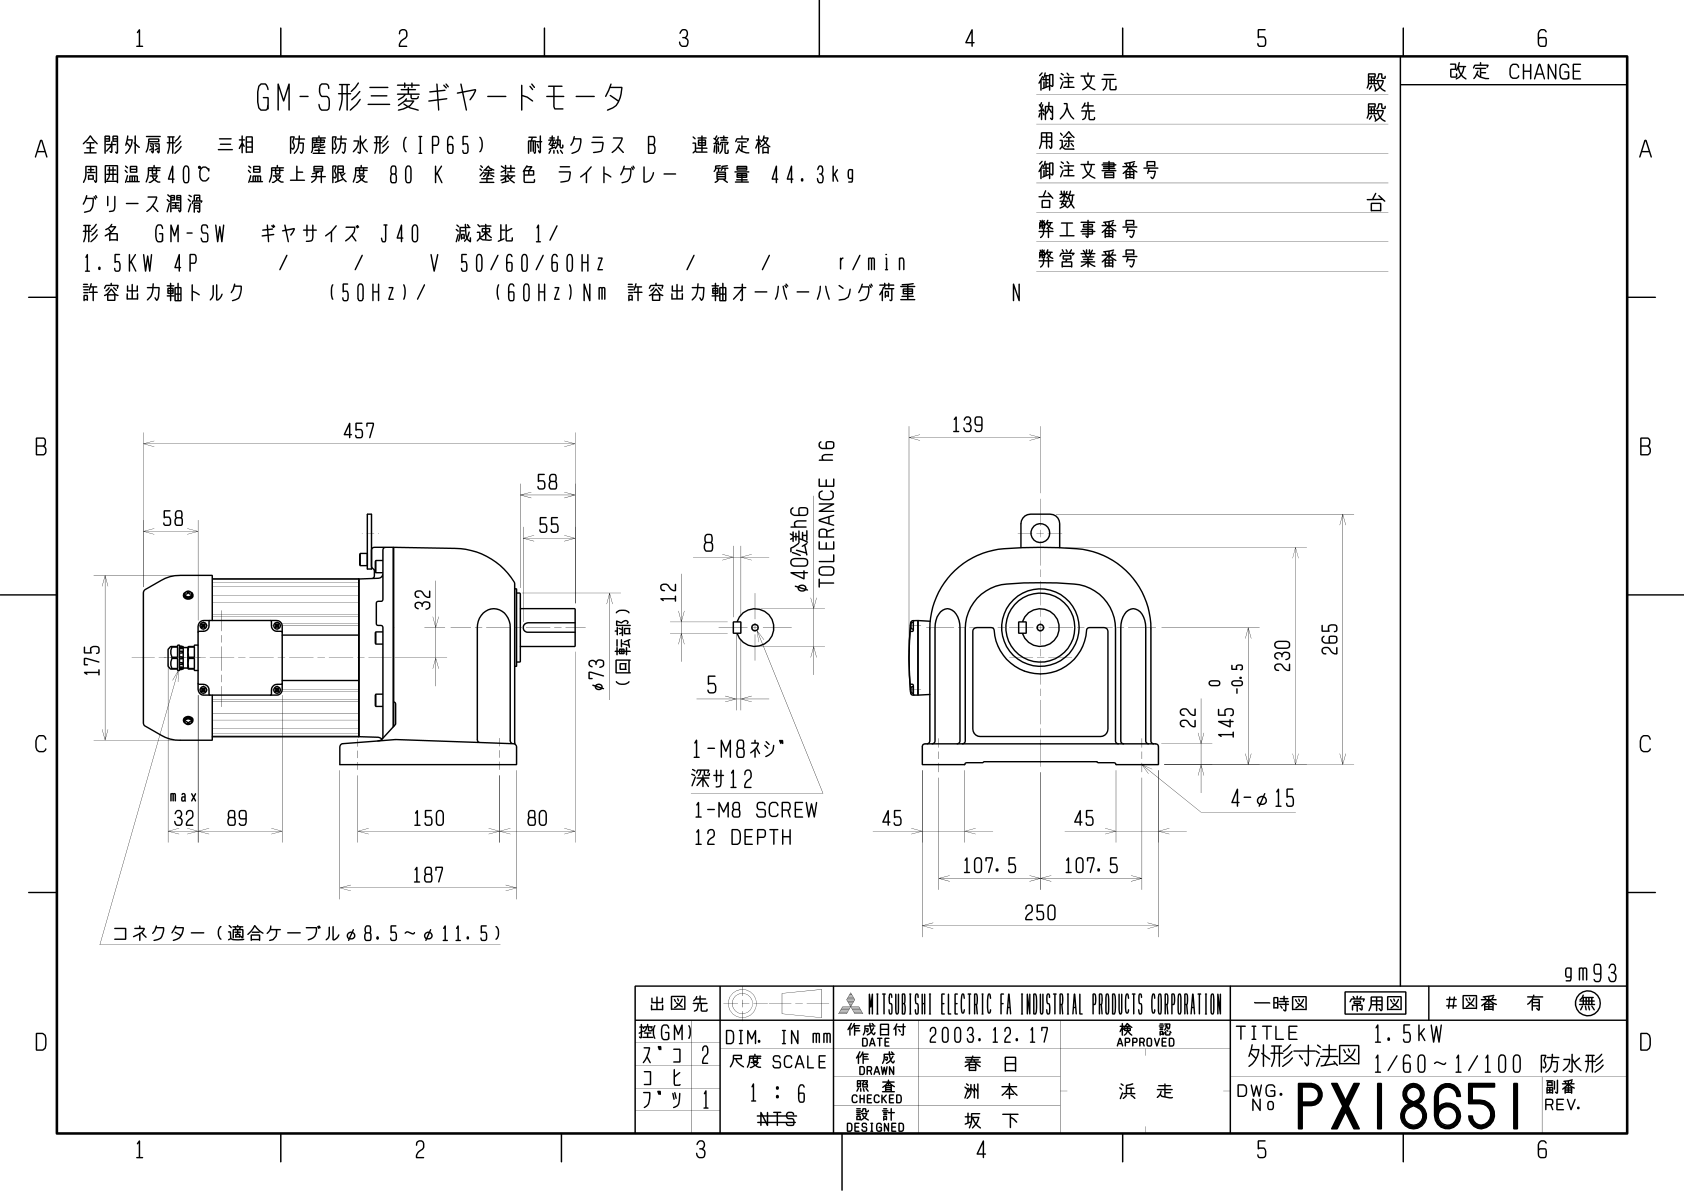GM_S_IP65＿三相_脚: (67, 382, 1370, 947)
